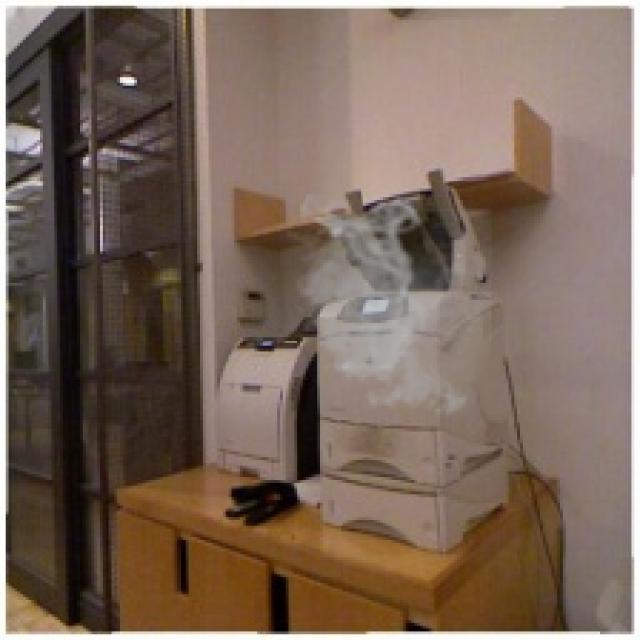smoke: (288, 194, 492, 423)
